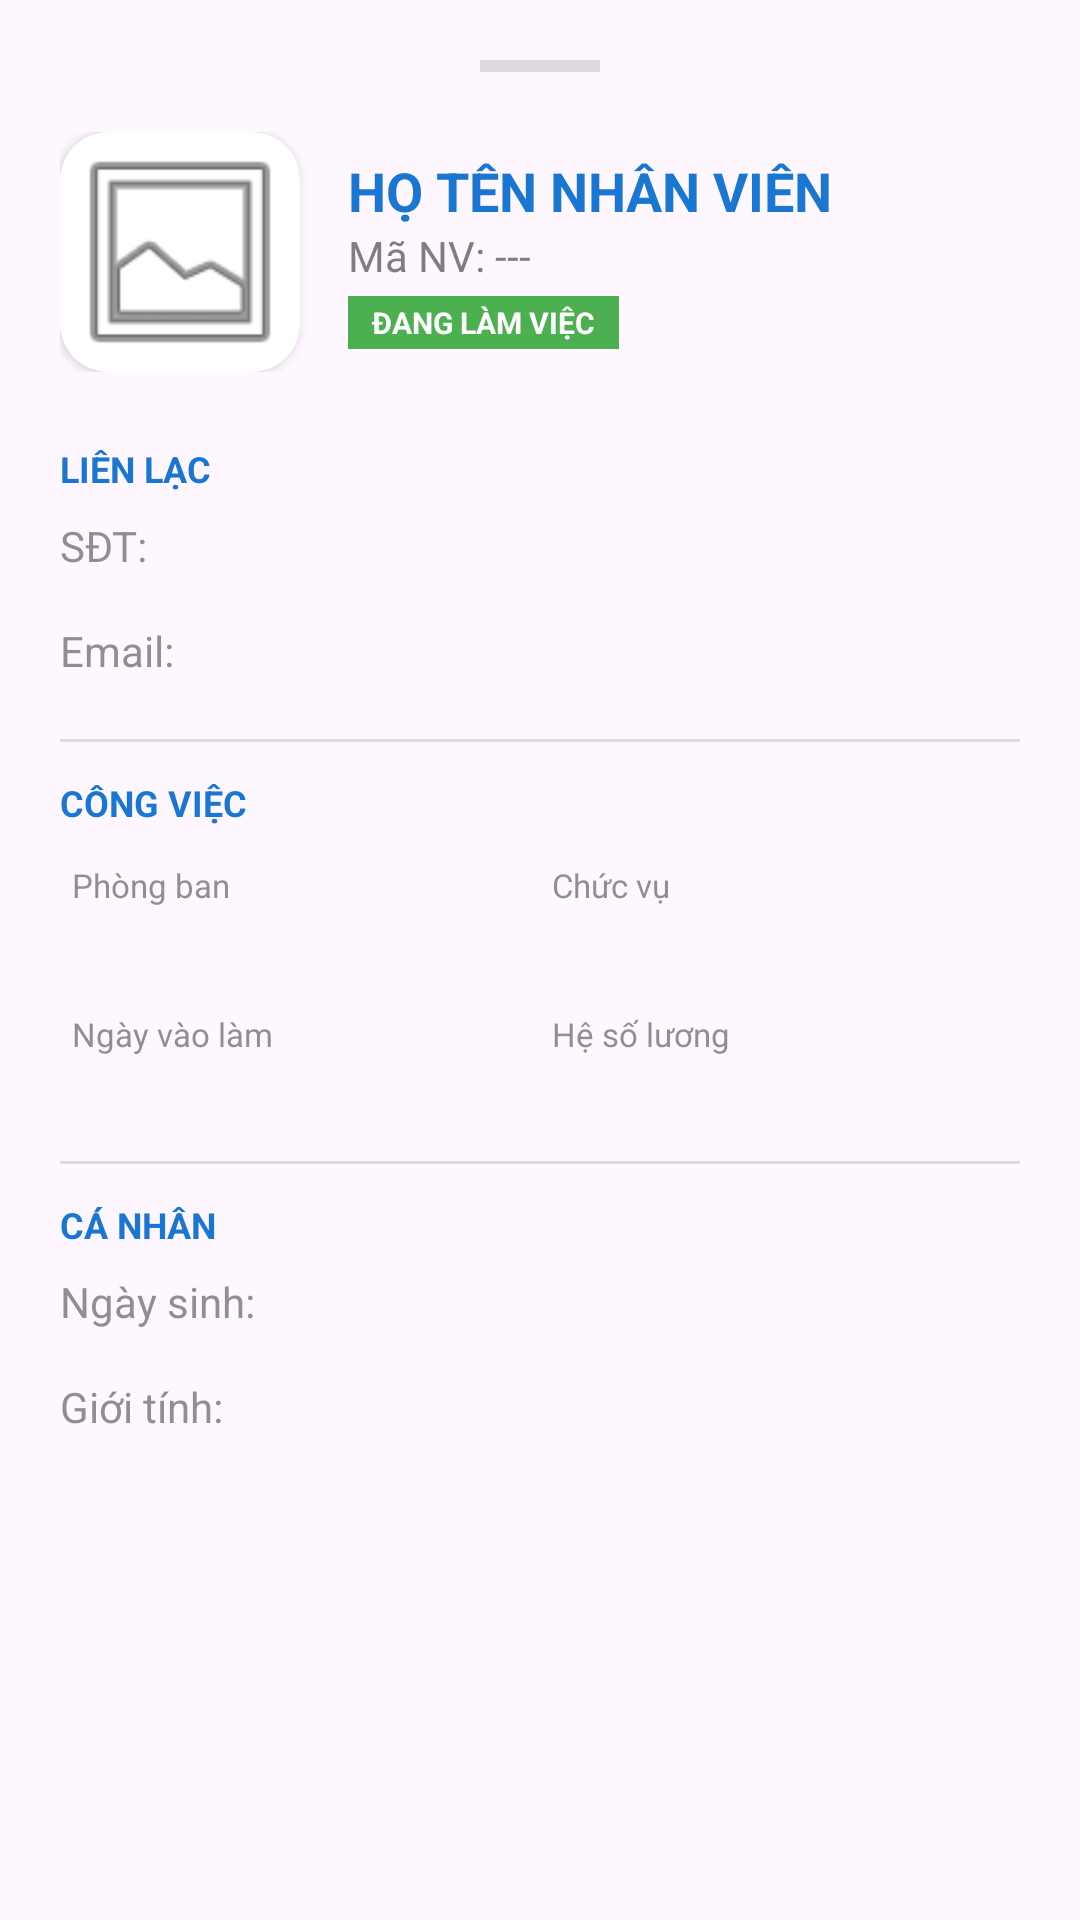

Where to tap for icons on this 1080x1920 app screen, as point (x, y):
gallery: point (176, 252)
